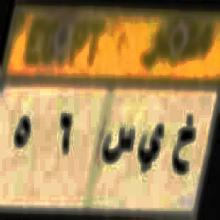5: (14, 113, 32, 157)
6: (59, 109, 74, 155)
khaa: (173, 110, 195, 182)
seen: (101, 121, 136, 169)
yaa: (138, 122, 162, 180)
